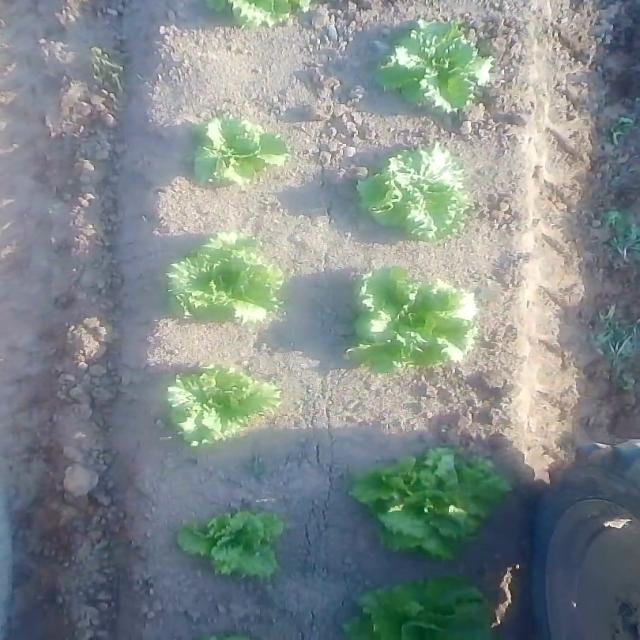Lettuce-Ready-to-Harvest: (347, 448, 511, 560), (348, 266, 476, 374), (162, 230, 287, 323), (355, 144, 469, 241), (165, 364, 282, 446), (376, 20, 478, 113), (190, 114, 288, 189), (178, 510, 286, 577)
